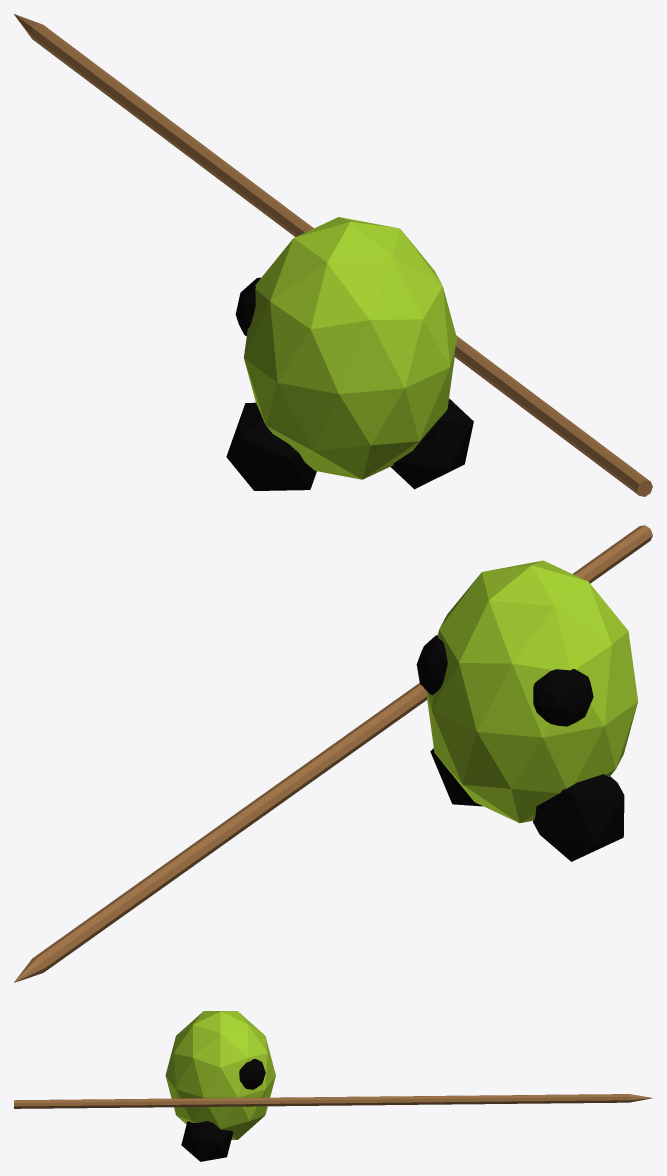
Rendered from edamame_spear_minibaked_bad.glb.
3 views of the same model, one above another, from view 1: azimuth 30°, elevation 25°; view 2: azimuth 150°, elevation 25°; view 3: azimuth 270°, elevation 25° (orthographic). The views are drawn at different scales.
Parts seen in each view (by area): view 1: Body.001; view 2: Body.001; view 3: Body.001.
Part boxes in pixels (box(x1,y1,x2,y2)): Body.001: box(14, 14, 652, 496); Body.001: box(14, 525, 652, 982); Body.001: box(14, 1011, 652, 1161).
Size of the model in its own units: 2.17 by 2.71 by 11.56.
1 material, 1 textured.
